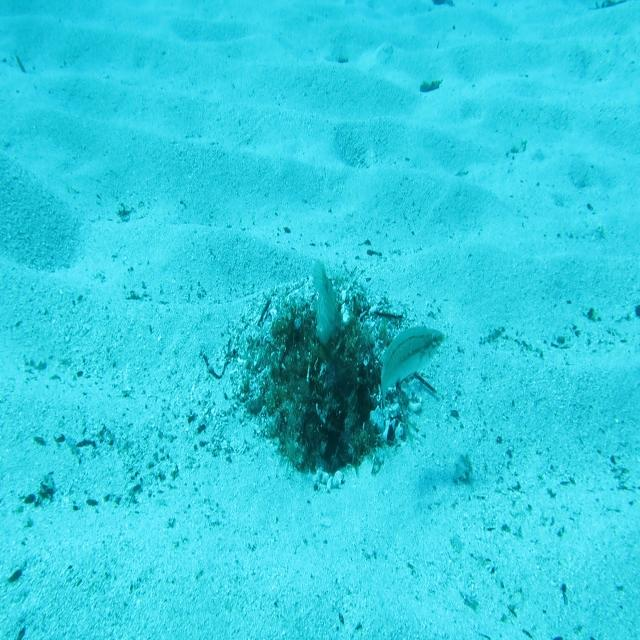NIP_CORE: (308, 255, 344, 352)
core_nest: (299, 324, 344, 374)
female: (378, 323, 447, 426)
nest: (219, 252, 434, 506)
vegetation: (418, 79, 444, 95)
